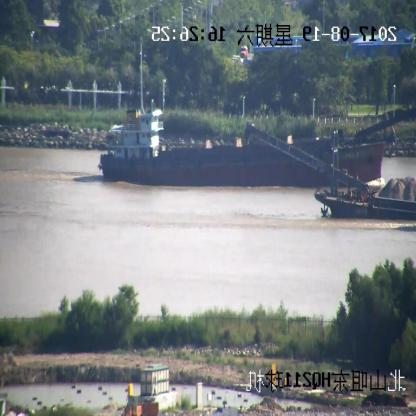Bulk Carrier: (100, 96, 415, 184)
